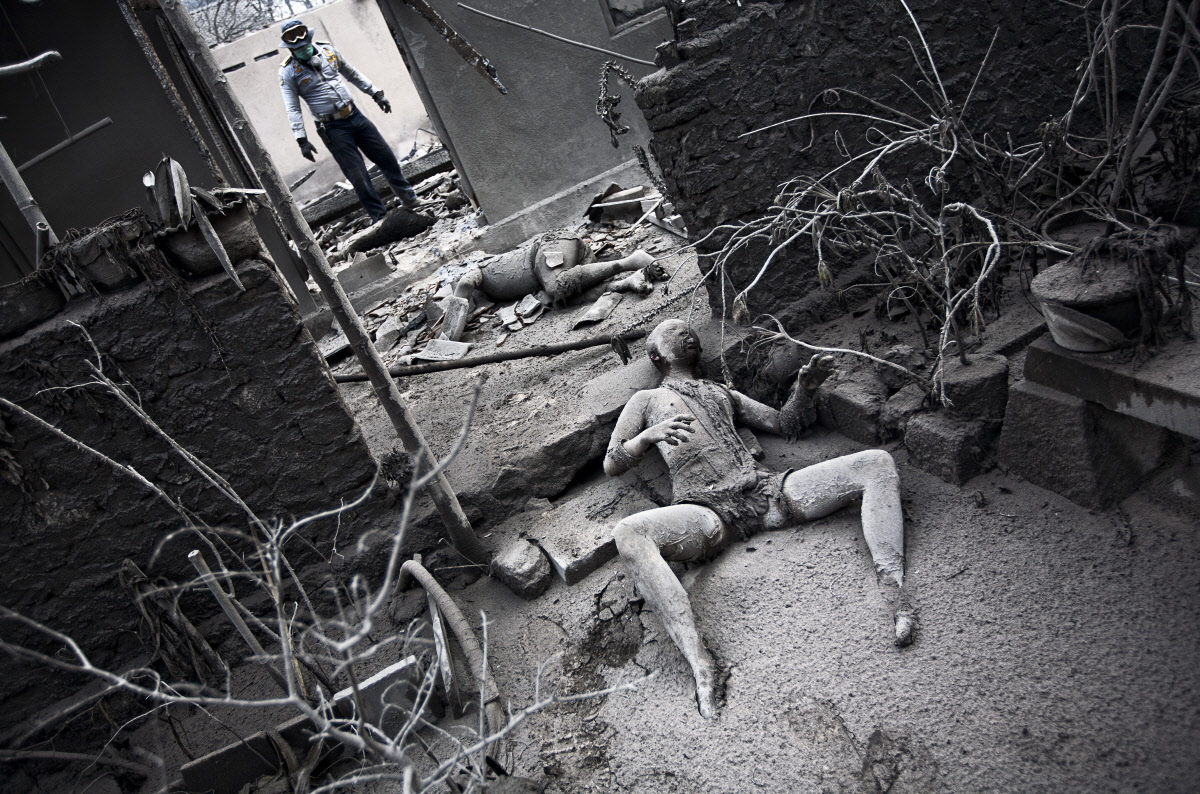BukanKorban: (278, 19, 433, 223)
Korban: (602, 319, 919, 719), (446, 228, 672, 312)
